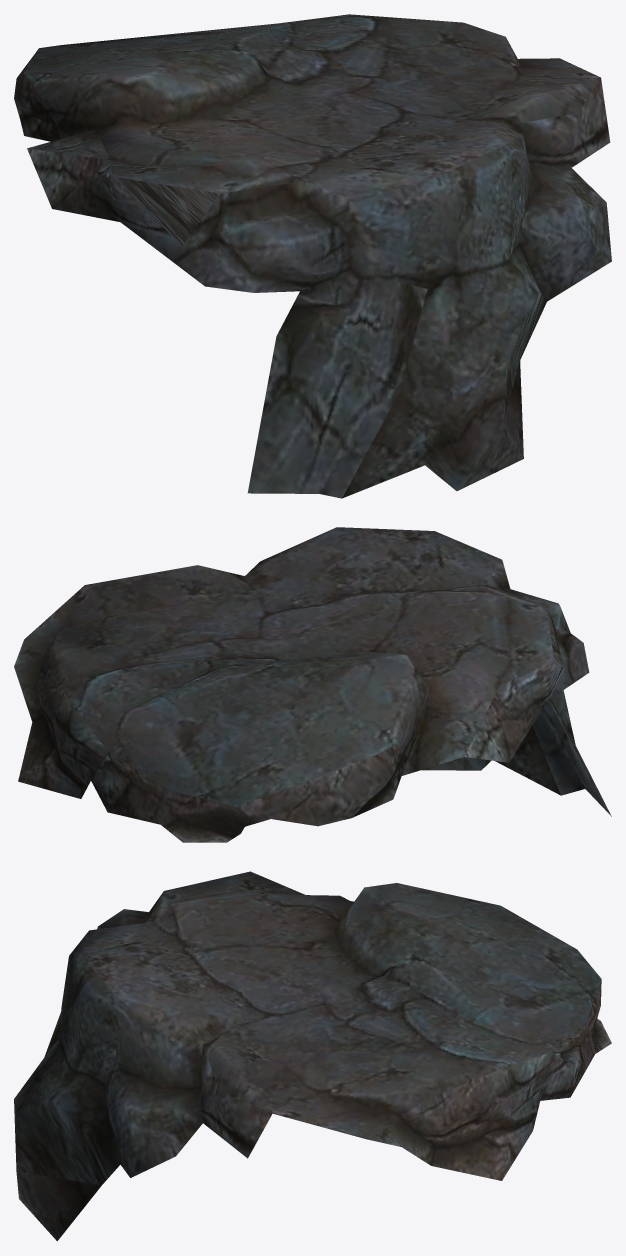
File: S_Rock_Yellow036_H13.FBX
3 views of the same model, one above another, from view 1: azimuth 30°, elevation 25°; view 2: azimuth 150°, elevation 25°; view 3: azimuth 270°, elevation 25° (orthographic). The views are drawn at different scales.
Parts seen in each view (by area): view 1: S_Rock_Yellow036_H13; view 2: S_Rock_Yellow036_H13; view 3: S_Rock_Yellow036_H13.
Part boxes in pixels (bbox=[...]): S_Rock_Yellow036_H13: bbox=[14, 14, 611, 498]; S_Rock_Yellow036_H13: bbox=[14, 527, 611, 842]; S_Rock_Yellow036_H13: bbox=[14, 871, 611, 1241].
Bounding box in the file's own units: 1135 × 1290 × 634.
Materials: 1 (1 with a texture image).
